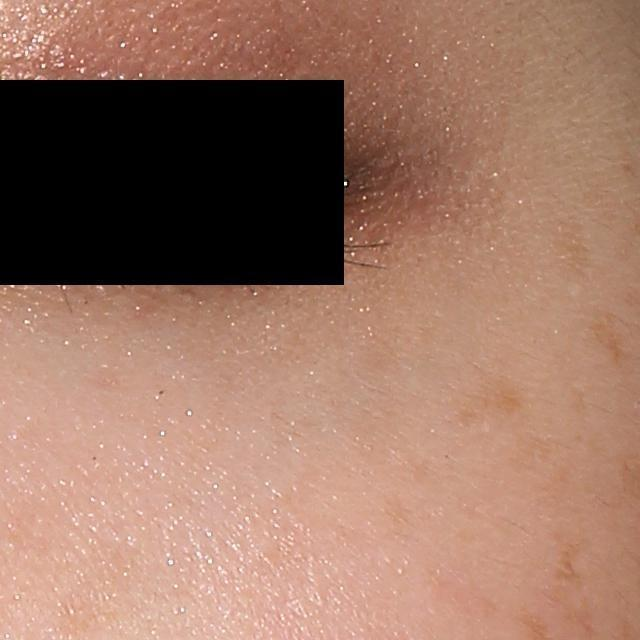melasma: (446, 370, 535, 431), (544, 215, 603, 291), (590, 300, 634, 373), (549, 540, 585, 586)
